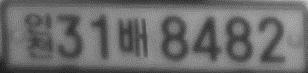1: (87, 13, 115, 59)
2: (257, 16, 286, 64)
3: (55, 13, 83, 58)
4: (192, 16, 222, 62)
8: (224, 15, 254, 62), (160, 14, 189, 60)
배: (118, 17, 149, 58)
인천_V: (23, 12, 52, 59)
